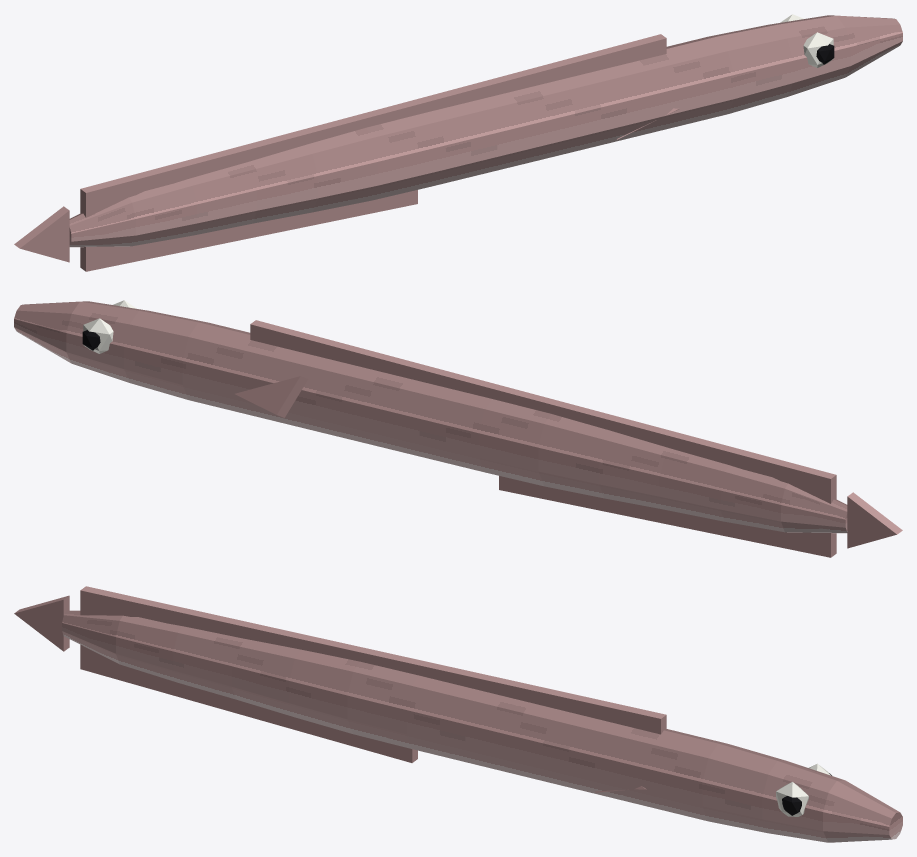
Rendered from hagfish.glb.
3 views of the same model, one above another, from view 1: azimuth 30°, elevation 25°; view 2: azimuth 150°, elevation 25°; view 3: azimuth 330°, elevation 25° (orthographic).
Visible parts, largest first — view 1: fish_hagfish; view 2: fish_hagfish; view 3: fish_hagfish.
Boxes of the visible parts, left/top/right/bottom form: fish_hagfish: left=14, top=14, right=902, bottom=271; fish_hagfish: left=14, top=300, right=902, bottom=557; fish_hagfish: left=14, top=586, right=902, bottom=842.
Size of the model in its own units: 1.06 by 0.121 by 0.1047.
4 materials, 1 textured.
